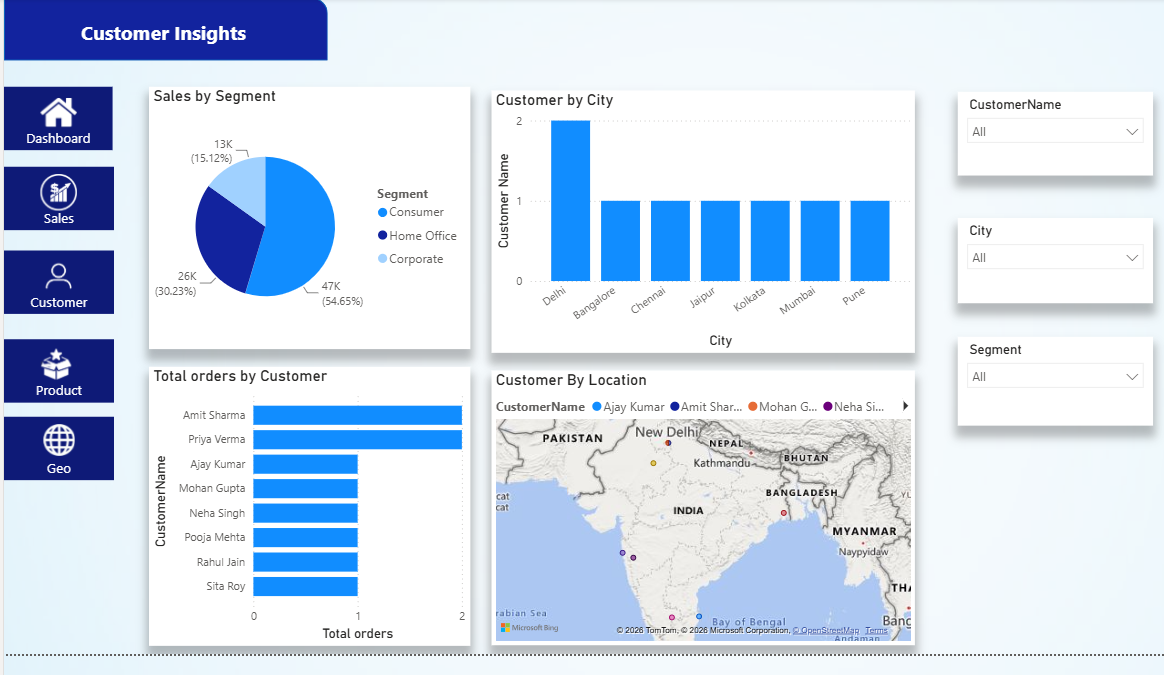

The page's visual inventory and layout, read from the dashboard file:
{"tool":"powerbi","page":{"name":"Customer Insights","canvas":[1280,720],"ordinal":2},"visuals":[{"type":"pieChart","title":"Sales by Segment","fields":{"Category":["Customer.Segment"],"Y":["Sales.Total Sales"]},"box":[159.2,97.4,352.7,288.2],"z":0},{"type":"clusteredBarChart","title":"Total orders by Customer","fields":{"Y":["Sales.Total orders"],"Category":["Customer.CustomerName"]},"box":[159.2,404.8,352.7,306],"z":1000},{"type":"columnChart","title":" Customer by City","fields":{"Category":["Customer.City"],"Y":["CountNonNull(Customer.CustomerName)"]},"box":[535.2,101.5,465.2,288.2],"z":2000},{"type":"map","title":" Customer By Location","fields":{"Series":["Customer.CustomerName"],"Category":["Customer.City"]},"box":[535.2,408.9,465.2,301.9],"z":3000},{"type":"slicer","fields":{"Values":["Customer.CustomerName"]},"box":[1047,102.9,214.1,91.9],"z":4000},{"type":"actionButton","box":[0,97.4,119.4,70],"z":5000},{"type":"actionButton","box":[0,185.2,120.8,70],"z":6000},{"type":"actionButton","box":[0,277.2,120.8,70],"z":7000},{"type":"actionButton","box":[0,374.6,120.8,70],"z":8000},{"type":"slicer","fields":{"Values":["Customer.City"]},"box":[1047,241.5,214.1,93.3],"z":9000},{"type":"slicer","fields":{"Values":["Customer.Segment"]},"box":[1047,371.9,214.1,97.4],"z":10000},{"type":"actionButton","box":[0,459.7,120.8,70],"z":11000},{"type":"shape","box":[0,0,355.4,68.6],"z":12000}]}

Visuals, with their boxes in screenshot pixels (x1, y1, x2, y2), scaled from the page's 1280x720 canvas onto the 1164x675 screenshot:
"Sales by Segment" pieChart: [145,91,466,362]
"Total orders by Customer" clusteredBarChart: [145,380,466,666]
" Customer by City" columnChart: [487,95,910,365]
" Customer By Location" map: [487,383,910,666]
slicer - Customer.CustomerName: [952,96,1147,183]
actionButton: [0,91,109,157]
actionButton: [0,174,110,239]
actionButton: [0,260,110,326]
actionButton: [0,351,110,417]
slicer - Customer.City: [952,226,1147,314]
slicer - Customer.Segment: [952,349,1147,440]
actionButton: [0,431,110,497]
shape: [0,0,323,64]
